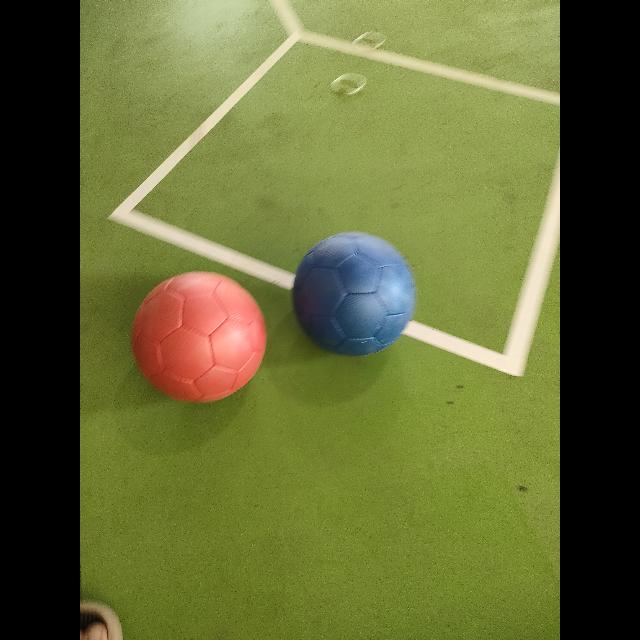B: (294, 232, 414, 356)
R: (132, 273, 266, 402)
